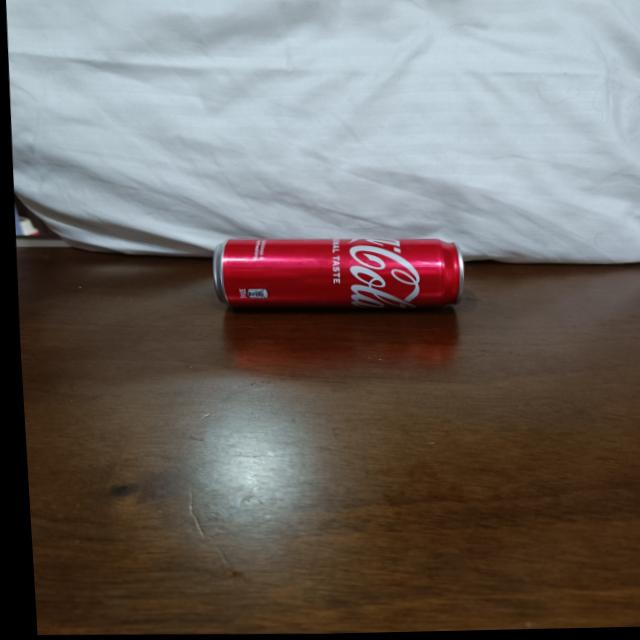coke: (204, 230, 461, 314)
